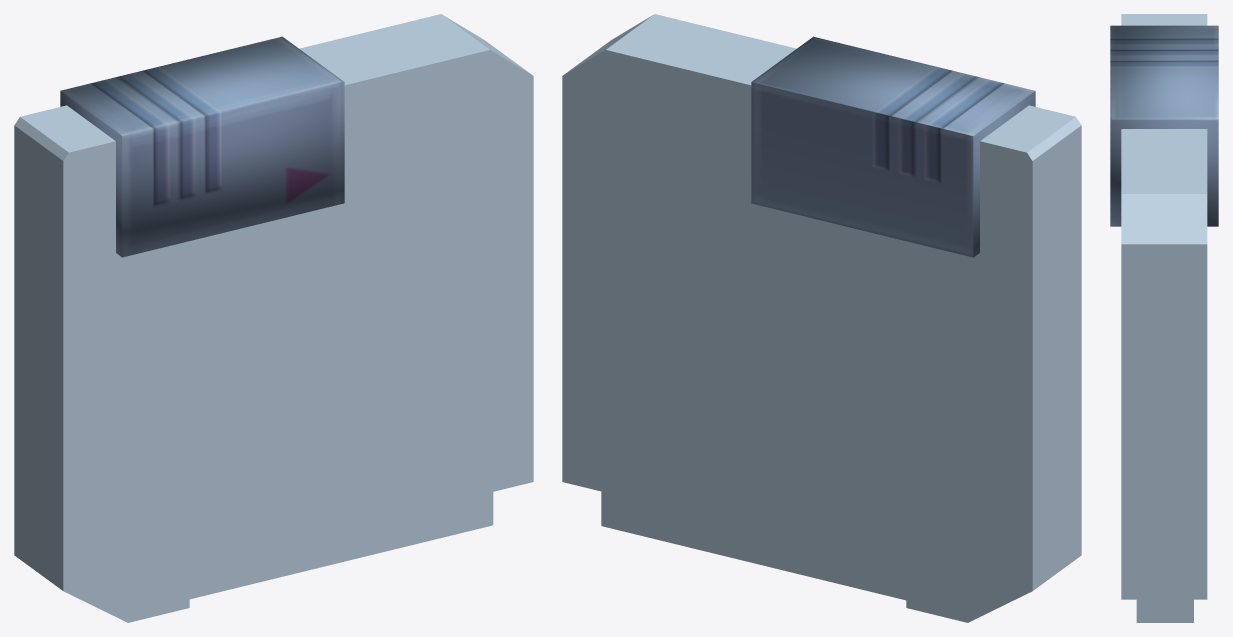
The model's file is galacticassette.fbx.
The picture shows the model from 3 angles, left to right: view 1: azimuth 30°, elevation 25°; view 2: azimuth 150°, elevation 25°; view 3: azimuth 270°, elevation 25°; orthographic projection. The views are drawn at different scales.
Parts seen in each view (by area): view 1: case1, bracket; view 2: case1, bracket; view 3: case1, bracket.
Boxes of the visible parts, left/top/right/bottom form: case1: left=14, top=14, right=533, bottom=622; bracket: left=60, top=36, right=344, bottom=257; case1: left=562, top=14, right=1081, bottom=622; bracket: left=751, top=36, right=1035, bottom=257; case1: left=1121, top=14, right=1207, bottom=622; bracket: left=1110, top=25, right=1218, bottom=226.
Bounding box in the file's own units: 0.0739 × 0.0743 × 0.0169.
